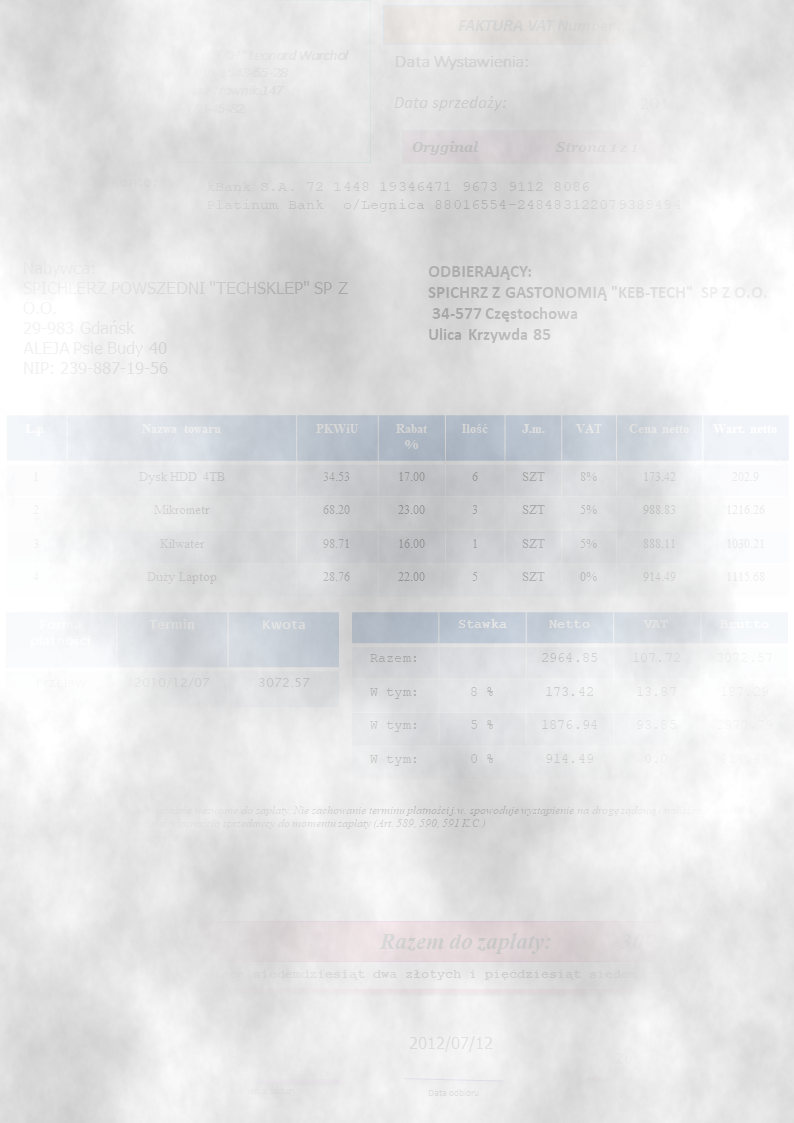Table: (4, 410, 792, 600), (349, 608, 791, 781), (4, 608, 341, 709)
TextBox: (13, 787, 761, 846), (20, 257, 351, 379), (423, 261, 770, 346), (20, 45, 354, 119), (202, 176, 685, 214), (74, 965, 741, 983), (375, 926, 751, 956), (409, 136, 641, 160), (455, 15, 718, 36), (86, 1081, 301, 1099), (391, 49, 532, 74), (388, 90, 511, 114), (18, 172, 161, 191), (637, 48, 739, 74), (611, 1046, 725, 1069), (616, 1083, 724, 1104), (144, 1047, 248, 1068), (403, 1031, 495, 1054), (635, 93, 731, 114), (424, 1082, 482, 1102)
